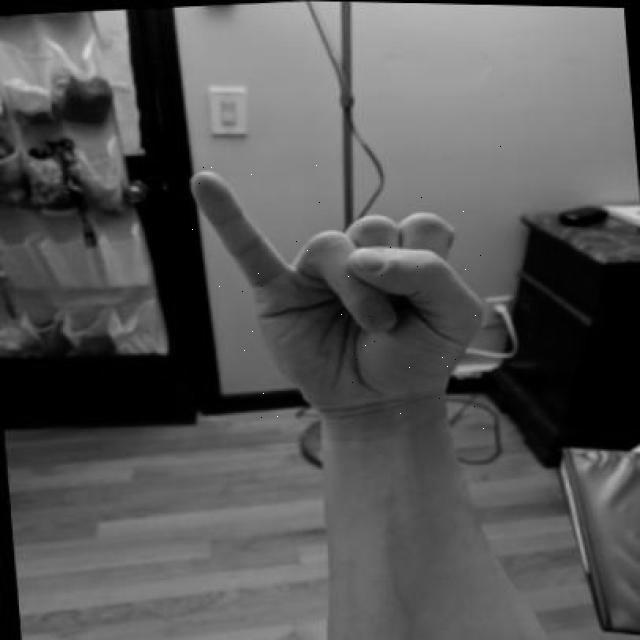I: (181, 143, 502, 432)
